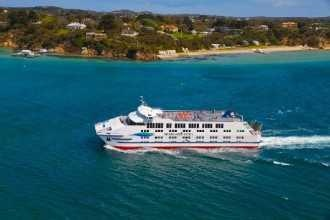youlun: (93, 98, 266, 156)
